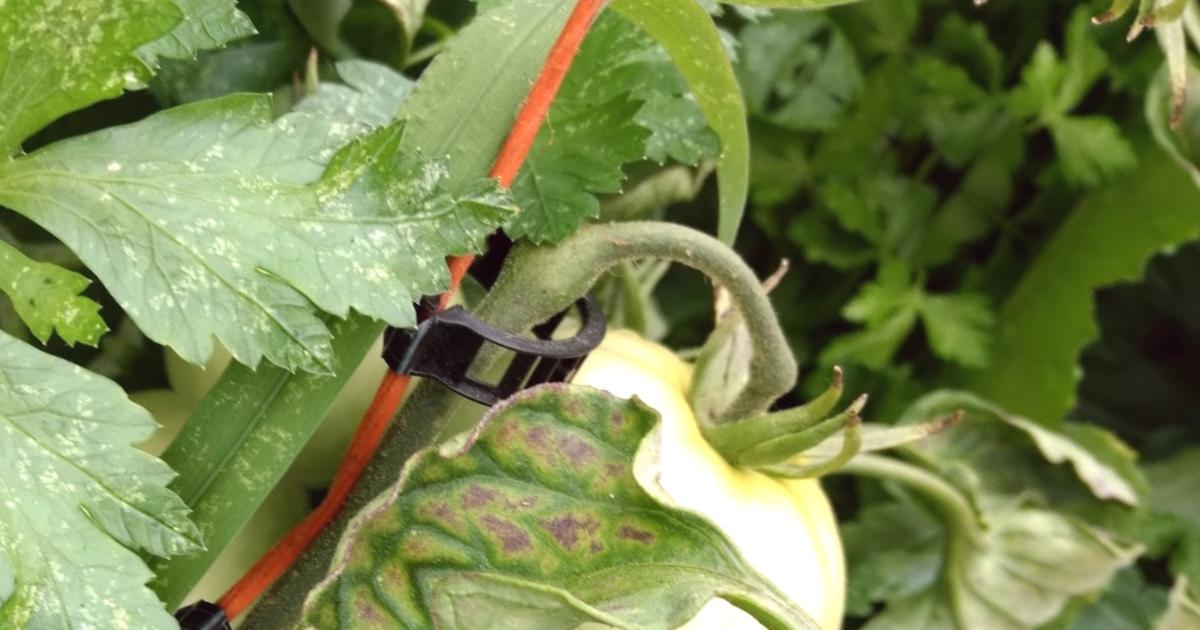Tomato leaf mosaic virus: (0, 0, 520, 467)
